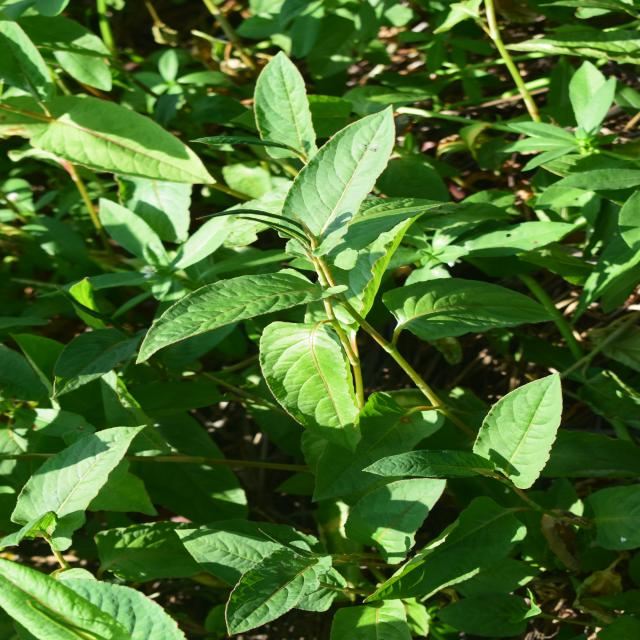Chinese_knotweed: (243, 142, 507, 489), (2, 186, 228, 581)
